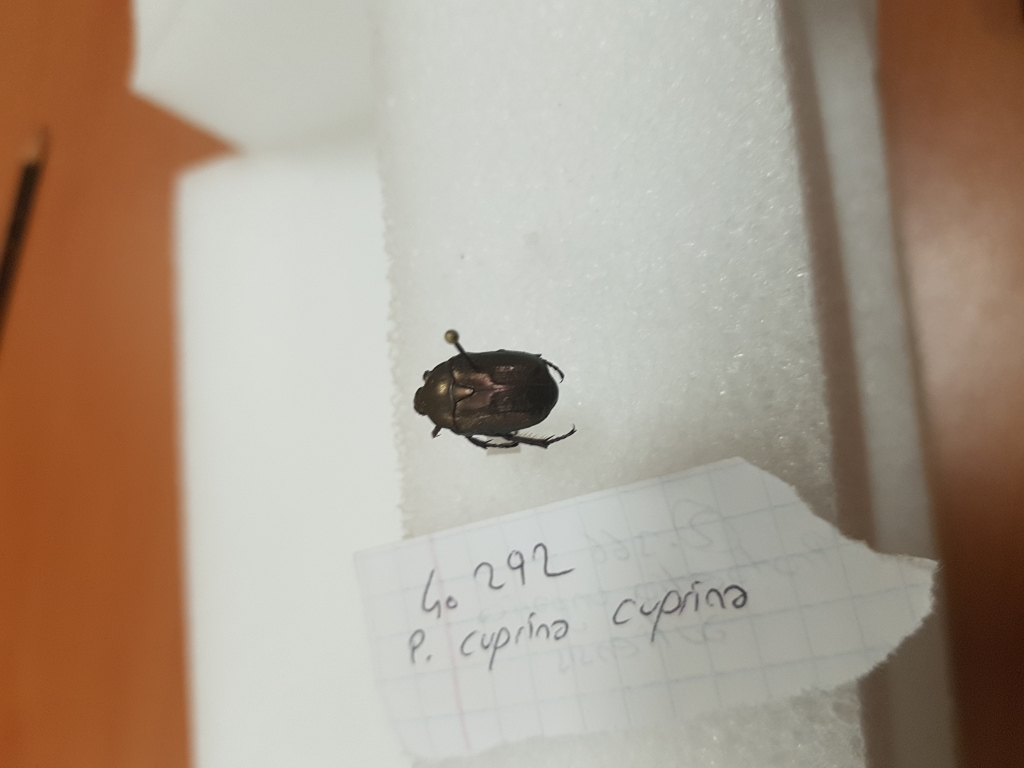Protaetia_cuprina_cuprina: (411, 340, 583, 464)
